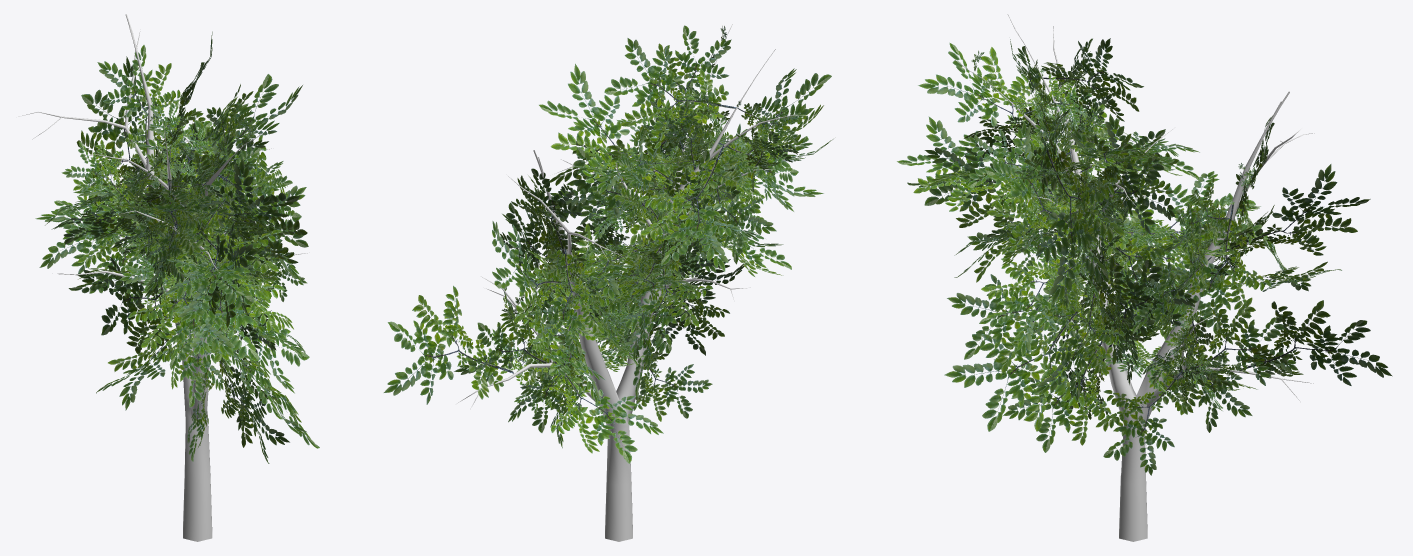
Rendered from tree_2.fbx.
3 renders of one model, left to right at view 1: azimuth 30°, elevation 25°; view 2: azimuth 150°, elevation 25°; view 3: azimuth 270°, elevation 25°, orthographic. The views are drawn at different scales.
Visible parts, largest first — view 1: tree; view 2: tree; view 3: tree.
Boxes of the visible parts, <box> form: tree: <box>18,14,319,541</box>; tree: <box>383,24,833,541</box>; tree: <box>897,14,1392,541</box>.
Size of the model in its own units: 913 by 1482 by 1389.
